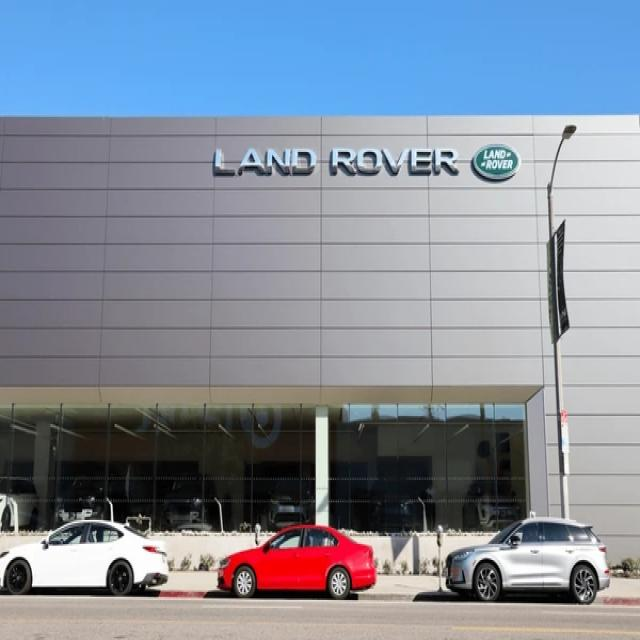kia: (213, 144, 461, 181)
landrover: (473, 144, 520, 180)
